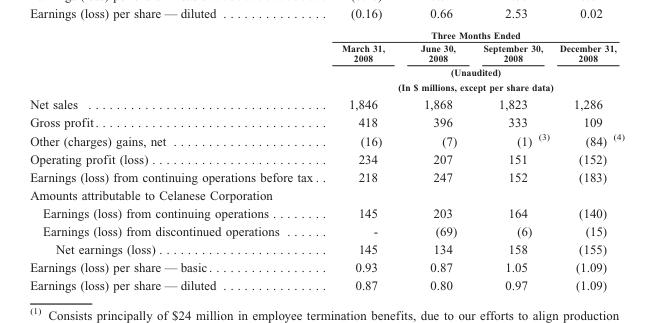table: (29, 29, 623, 291)
table column: (29, 29, 329, 291), (469, 29, 553, 291), (329, 29, 401, 291), (553, 29, 623, 291), (401, 29, 469, 291)
table column header: (29, 29, 623, 94)
table projected row header: (29, 185, 623, 203)
table row: (29, 64, 623, 94), (29, 41, 623, 64), (29, 94, 623, 113), (29, 130, 623, 149), (29, 149, 623, 167), (29, 167, 623, 185), (29, 185, 623, 203), (29, 203, 623, 221), (29, 221, 623, 239), (29, 239, 623, 257), (29, 257, 623, 275), (29, 113, 623, 130), (29, 275, 623, 291), (29, 29, 623, 41)
table spanning cell: (329, 64, 623, 94), (329, 29, 623, 41)
